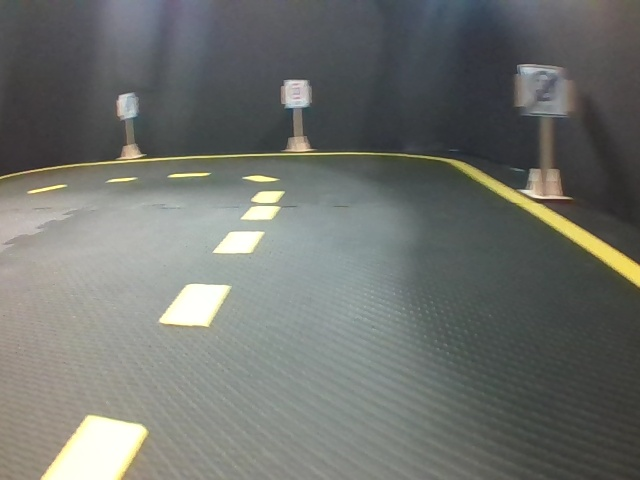30: (285, 80, 307, 106)
no30: (522, 62, 564, 116), (118, 93, 134, 117)
